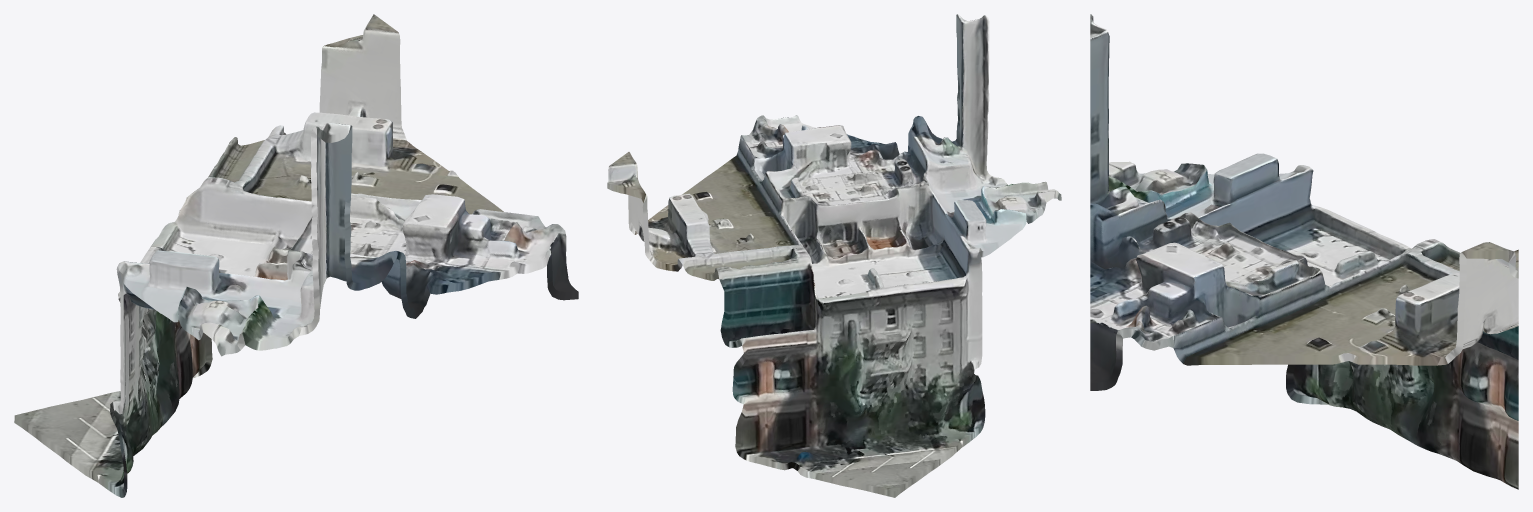
File: z20-167794-405230-h0-yup-uvflip-v3-world.glb
3 views of the same model, side by side, from view 1: azimuth 30°, elevation 25°; view 2: azimuth 150°, elevation 25°; view 3: azimuth 270°, elevation 25° (orthographic). The views are drawn at different scales.
Bounding box in the file's own units: 30.2 × 34.44 × 30.32.
1 material, 1 textured.
